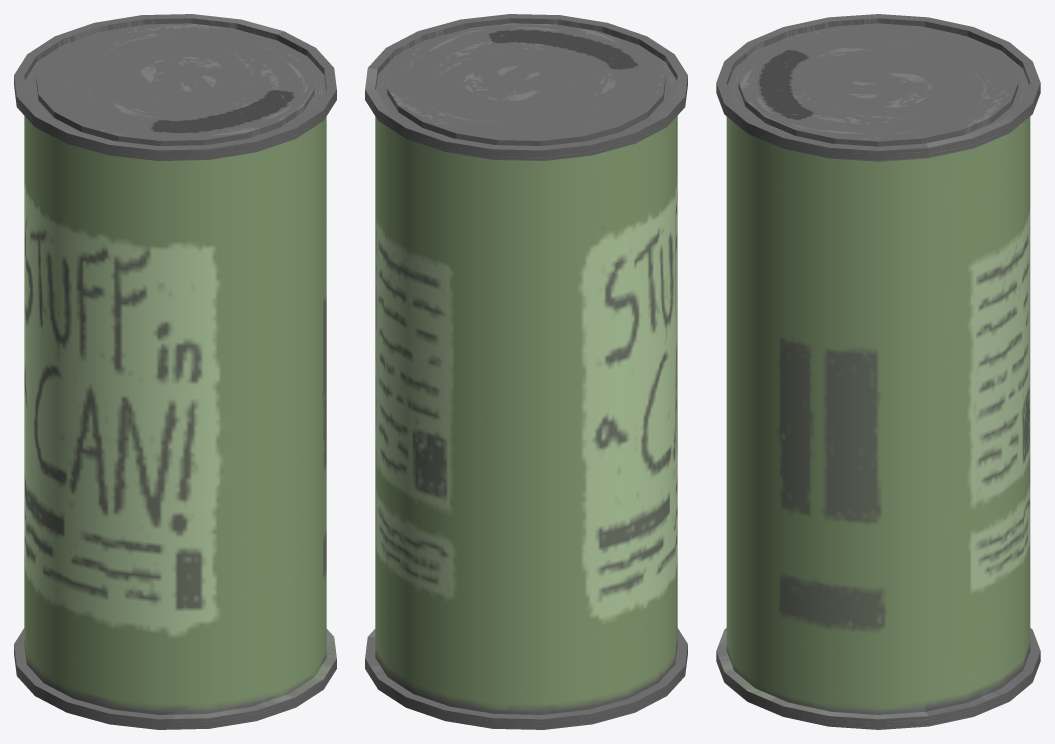
The model's file is TexturedCan2Real.fbx.
3 renders of one model, left to right at view 1: azimuth 30°, elevation 25°; view 2: azimuth 150°, elevation 25°; view 3: azimuth 270°, elevation 25°, orthographic.
Visible parts, largest first — view 1: pCylinder1; view 2: pCylinder1; view 3: pCylinder1.
Boxes of the visible parts, x1,y1,x2,y2 form: pCylinder1: (14, 14, 336, 729); pCylinder1: (365, 14, 687, 729); pCylinder1: (716, 14, 1040, 729).
Size of the model in its own units: 2.13 by 4.2 by 2.13.
1 material, 1 textured.
